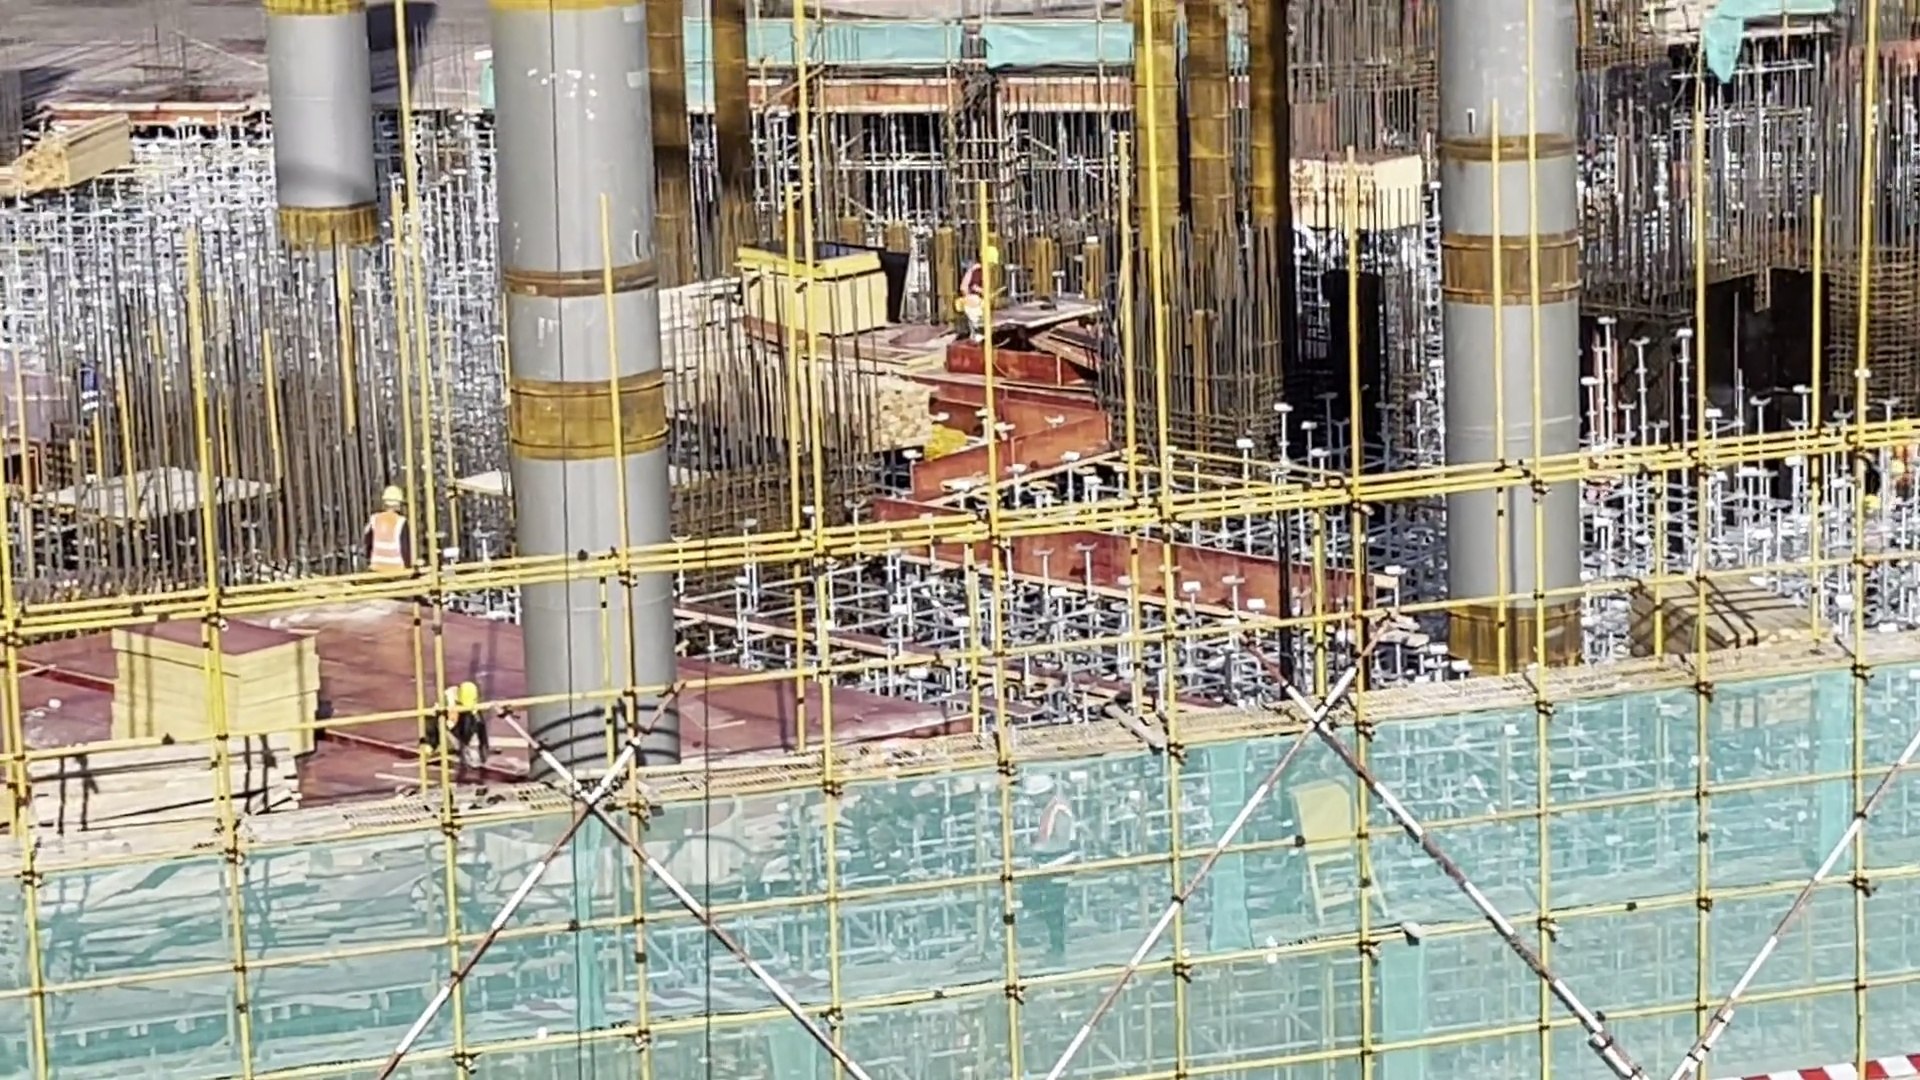board: (109, 614, 319, 751)
helmet: (459, 678, 482, 699), (382, 487, 402, 501)
person: (358, 485, 424, 582), (428, 681, 485, 779)
vest: (372, 514, 405, 575)
wood: (17, 745, 304, 820), (1647, 580, 1842, 674), (5, 111, 146, 204)
